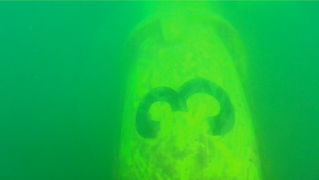3: (135, 76, 235, 138)
pipe: (120, 1, 262, 179)
